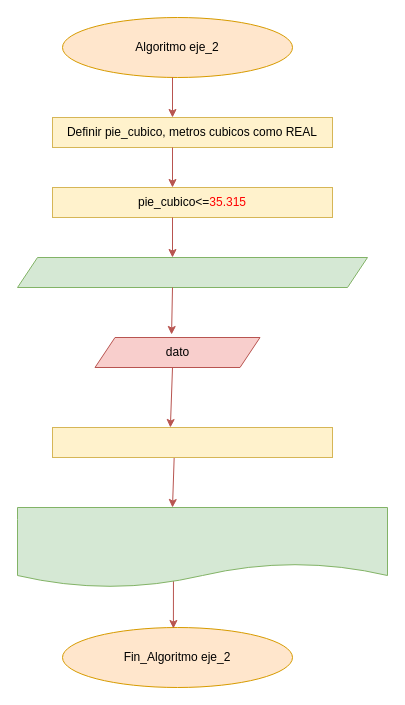
Some shapes in this 405 by 705 pixel diagram are drawn without their labels. Each missing label, with the centre of its shape:
"La cantidad de metros cubicos que necesita son : " metro_cubico: [202,547]
Ingrese la cantidad de pies cubicos que desea comprar: [192,272]
metro_cubico<=dato/pie_cubico: [192,442]
